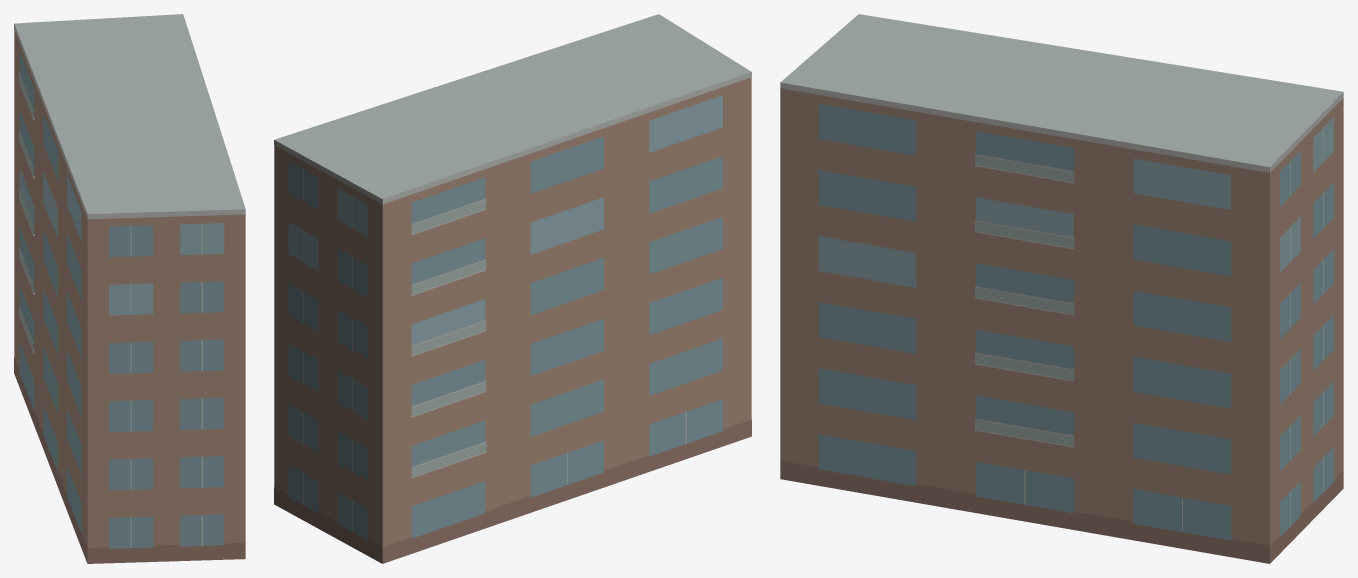
The model's file is survey-upis-32538455.glb.
3 views of the same model, side by side, from view 1: azimuth 30°, elevation 25°; view 2: azimuth 150°, elevation 25°; view 3: azimuth 270°, elevation 25° (orthographic). The views are drawn at different scales.
Parts seen in each view (by area): view 1: survey-upis-32538455.tmp; view 2: survey-upis-32538455.tmp; view 3: survey-upis-32538455.tmp.
Part boxes in pixels (bbox=[...]): survey-upis-32538455.tmp: bbox=[14, 14, 245, 563]; survey-upis-32538455.tmp: bbox=[274, 14, 751, 563]; survey-upis-32538455.tmp: bbox=[780, 14, 1343, 563].
Size of the model in its own units: 13.93 by 16.8 by 21.64.
